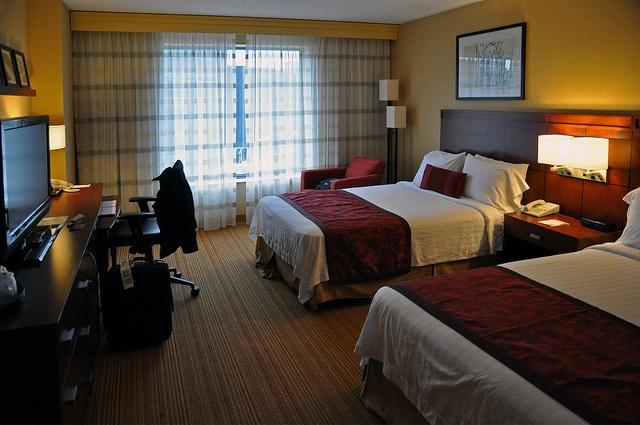AIO PC-Monitor-TV: (0, 113, 51, 247)
Kursi: (107, 158, 200, 261)
